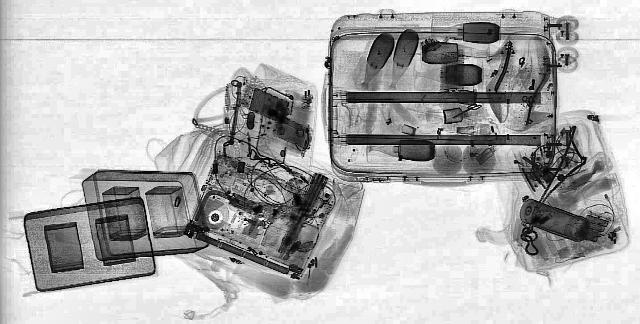Scissors: (450, 103, 480, 119)
